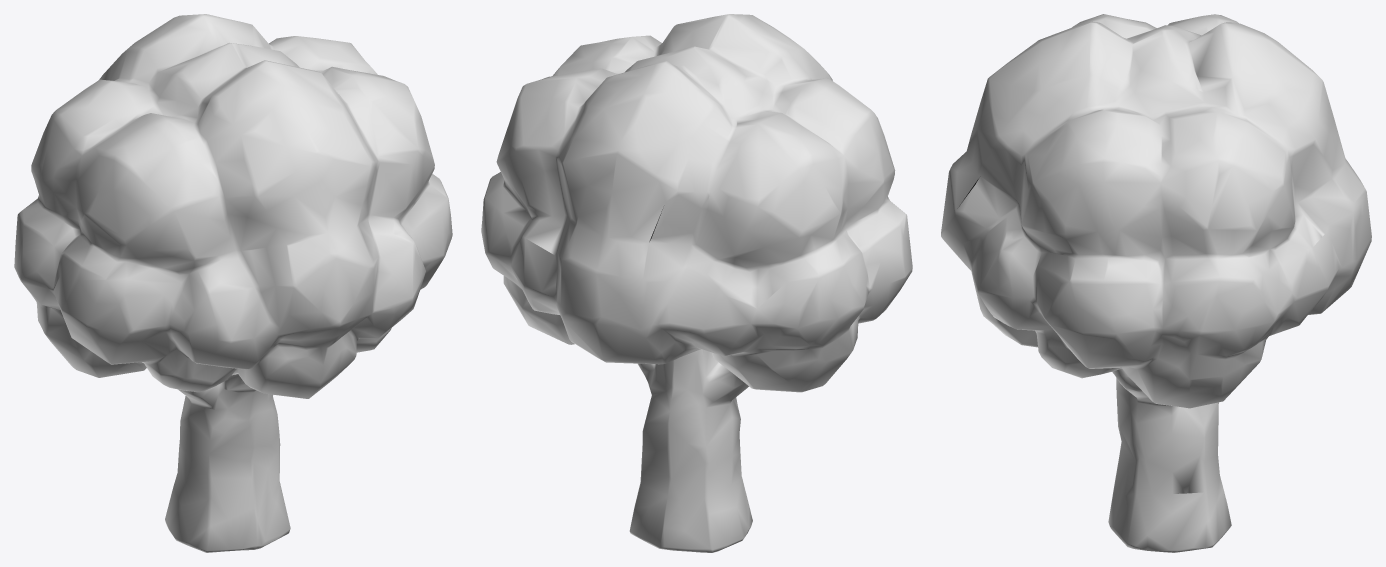
The model's file is tree-prototype-lowpoly.glb.
The picture shows the model from 3 angles, left to right: view 1: azimuth 30°, elevation 25°; view 2: azimuth 150°, elevation 25°; view 3: azimuth 270°, elevation 25°; orthographic projection. The views are drawn at different scales.
Parts seen in each view (by area): view 1: world; view 2: world; view 3: world.
Boxes of the visible parts, x1=… form: world: x1=14, y1=14, x2=452, y2=552; world: x1=481, y1=14, x2=912, y2=552; world: x1=941, y1=14, x2=1371, y2=552.
Size of the model in its own units: 0.8021 by 0.9872 by 0.7639.
Materials: 1 (1 with a texture image).
